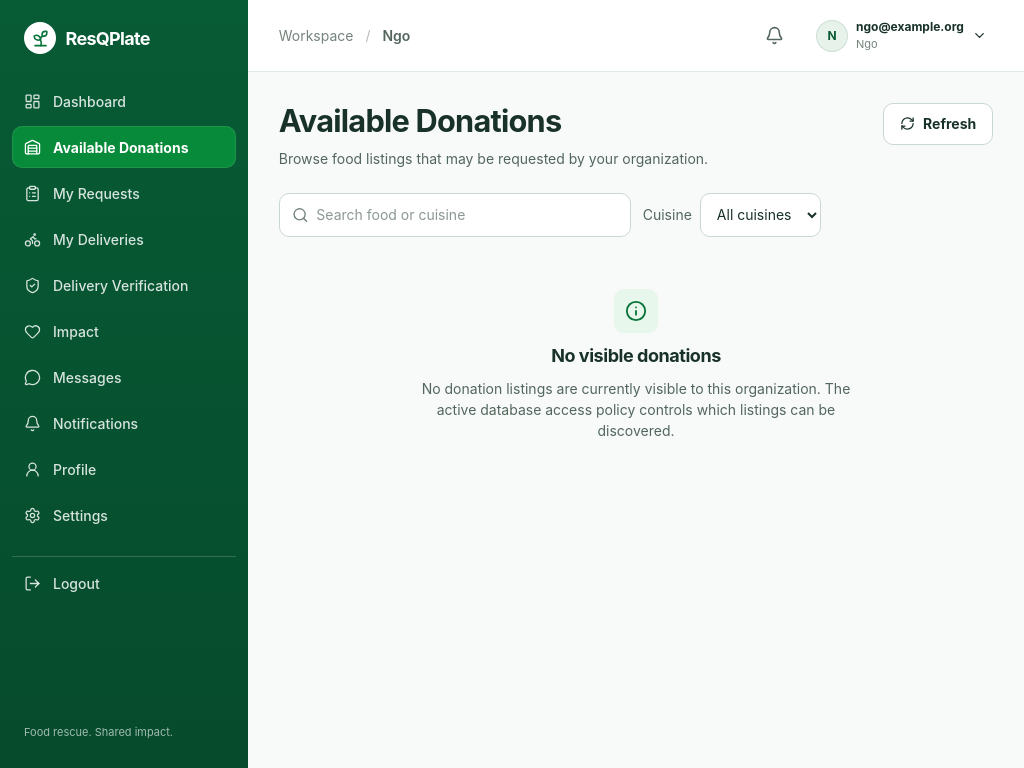
Test: NGO available donations screen › refreshes available donations on demand
Expected: the heading "No visible donations" is shown, [551,345,721,366]
Click the button "Refresh" at [938, 124], box [883,103,993,145]
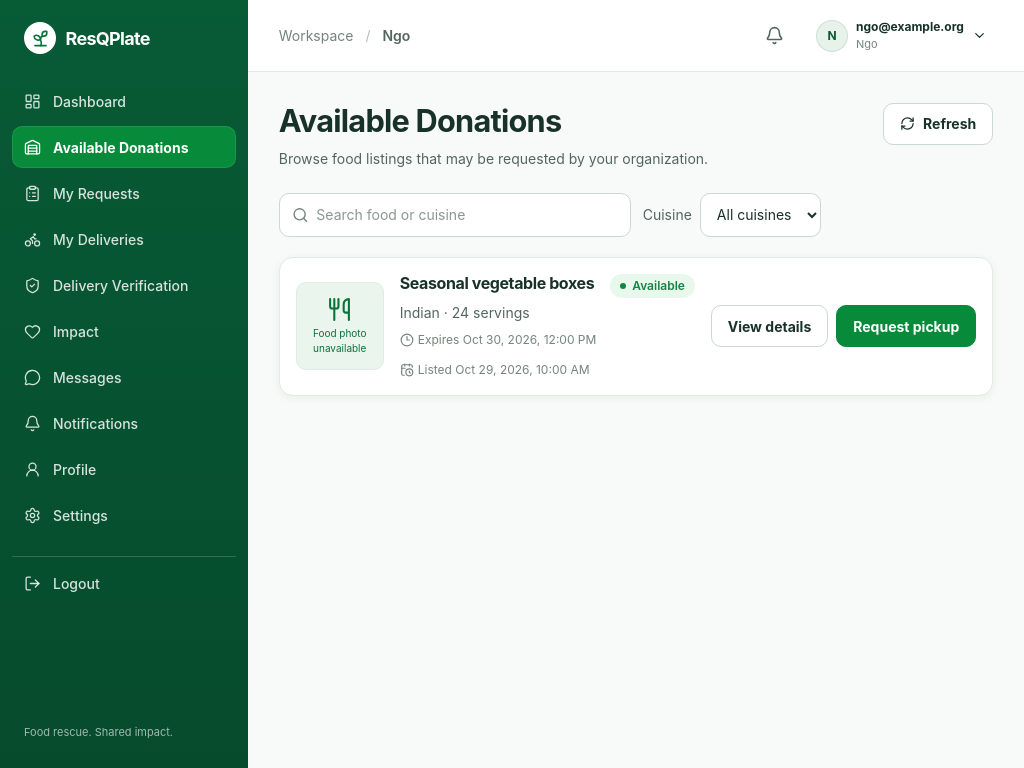
Now the heading "Seasonal vegetable boxes" is shown, box [400,274,594,293]
